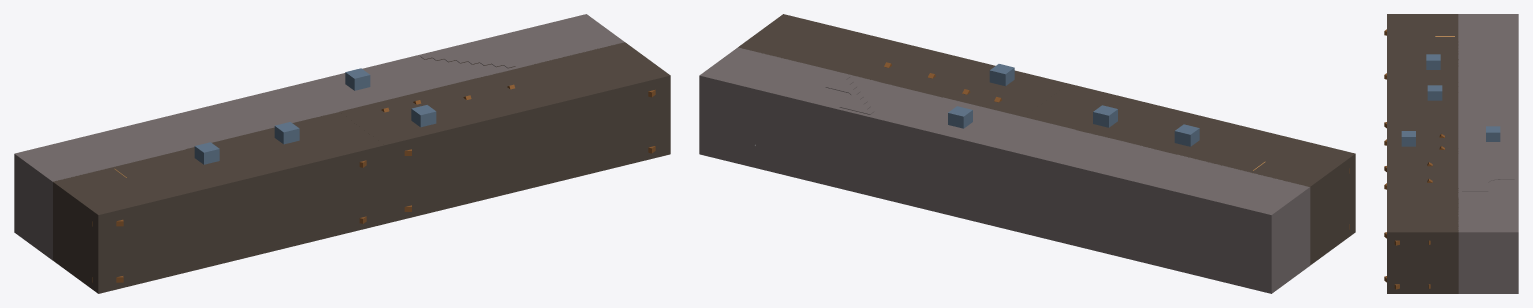
Rendered from tutorialLevel.glb.
3 renders of one model, left to right at view 1: azimuth 30°, elevation 25°; view 2: azimuth 150°, elevation 25°; view 3: azimuth 270°, elevation 25°, orthographic. The views are drawn at different scales.
Parts seen in each view (by area): view 1: Cube.013, Cube.014, Cube, Cube.009, Cube.012, Cube.008, Cube.011, Cube.020, Cube.083, Cube.073, Cube.078, Cube.088; view 2: Cube, Cube.013, Cube.009, Cube.014, Cube.012, Cube.008, Cube.011, Cube.020, Cube.088, Cube.083, Cube.073, Cube.078; view 3: Cube.014, Cube.013, Cube.012, Cube, Cube.009, Cube.008, Cube.011, Cube.020, Cube.078, Cube.073, Cube.083, Cube.088.
Part boxes in pixels (box(x1,y1,x2,y2)): Cube.013: box(53, 112, 384, 293); Cube.014: box(339, 42, 670, 223); Cube: box(14, 121, 185, 260); Cube.009: box(249, 64, 418, 122); Cube.012: box(484, 14, 624, 67); Cube.008: box(146, 96, 285, 149); Cube.011: box(382, 39, 521, 91); Cube.020: box(420, 49, 515, 68); Cube.083: box(411, 105, 436, 127); Cube.073: box(345, 68, 370, 90); Cube.078: box(274, 122, 299, 144); Cube.088: box(194, 142, 219, 164); Cube: box(1139, 154, 1310, 293); Cube.013: box(1024, 83, 1355, 265); Cube.009: box(904, 97, 1075, 236); Cube.014: box(738, 14, 1068, 116); Cube.012: box(699, 47, 840, 179); Cube.008: box(1036, 130, 1176, 261); Cube.011: box(802, 72, 942, 204); Cube.020: box(825, 75, 874, 114); Cube.088: box(1174, 124, 1199, 146); Cube.083: box(989, 64, 1014, 86); Cube.073: box(948, 106, 972, 128); Cube.078: box(1093, 105, 1117, 127); Cube.014: box(1387, 123, 1458, 293); Cube.013: box(1387, 14, 1458, 123); Cube.012: box(1458, 193, 1518, 293); Cube: box(1458, 14, 1518, 64); Cube.009: box(1458, 103, 1518, 153); Cube.008: box(1458, 64, 1518, 103); Cube.011: box(1458, 153, 1518, 192); Cube.020: box(1462, 167, 1514, 191); Cube.078: box(1427, 85, 1442, 100); Cube.073: box(1486, 126, 1500, 141); Cube.083: box(1401, 131, 1415, 146); Cube.088: box(1426, 54, 1440, 69).
Bounding box in the file's own units: 92.64 × 14.02 × 23.99.
